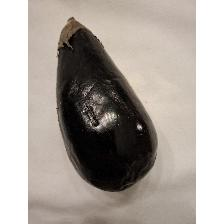Zwiebel: (54, 12, 160, 194)
